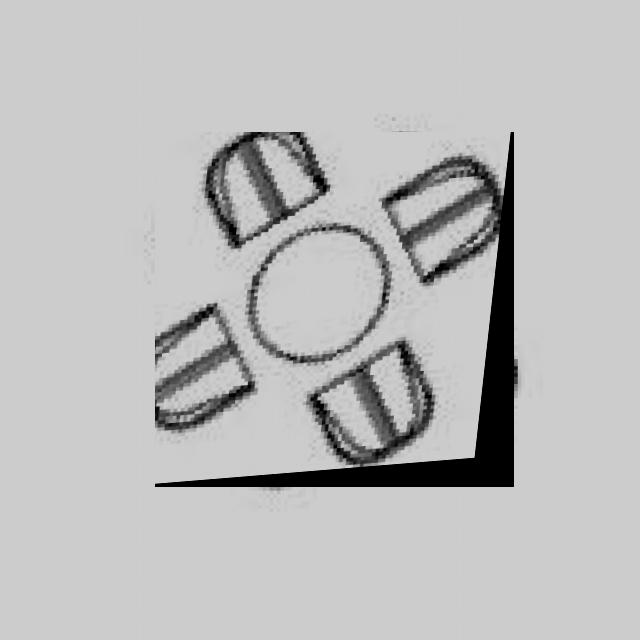table: (155, 132, 514, 487)
